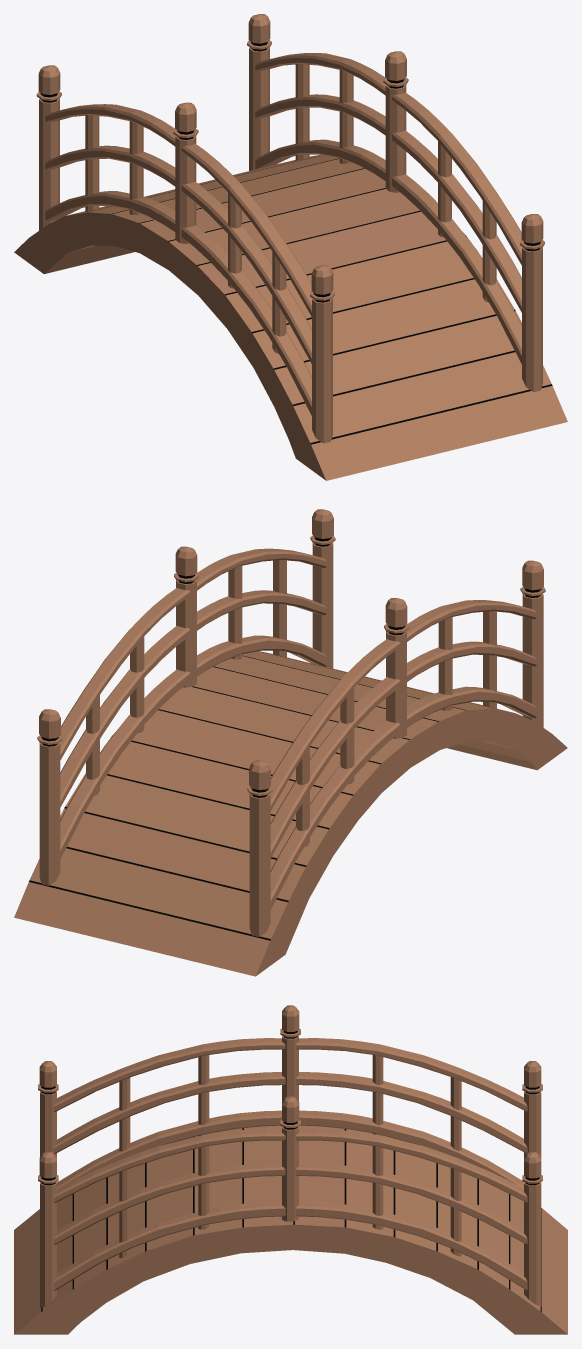
The model's file is Puente.fbx.
3 renders of one model, top to bottom at view 1: azimuth 30°, elevation 25°; view 2: azimuth 150°, elevation 25°; view 3: azimuth 270°, elevation 25°, orthographic. The views are drawn at different scales.
Parts seen in each view (by area): view 1: Circle.004; view 2: Circle.004; view 3: Circle.004.
Part boxes in pixels (left/top/right/bottom): Circle.004: left=14, top=14, right=567, bottom=480; Circle.004: left=14, top=509, right=567, bottom=976; Circle.004: left=14, top=1005, right=567, bottom=1334.
Bounding box in the file's own units: 172 × 177 × 385.
